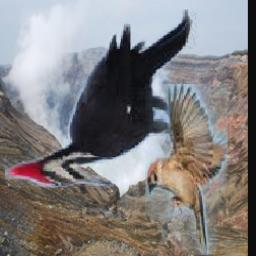Sparrow: (146, 85, 229, 256)
Woodpecker: (5, 10, 198, 188)
